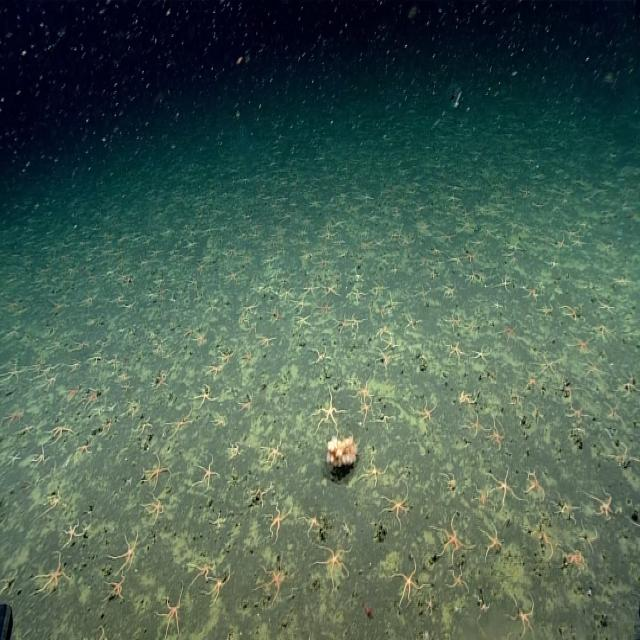brittle-stars: (433, 517, 469, 561), (34, 552, 70, 596), (316, 545, 352, 584), (260, 561, 291, 603), (392, 558, 421, 602), (509, 591, 536, 636), (316, 391, 343, 432), (159, 592, 185, 632), (383, 485, 410, 523), (203, 571, 232, 605), (112, 532, 139, 568), (266, 502, 292, 539), (142, 455, 170, 489), (489, 468, 515, 504), (586, 488, 614, 520), (562, 545, 586, 577), (196, 458, 219, 491), (263, 438, 287, 469), (481, 524, 504, 556), (190, 555, 216, 583), (554, 492, 578, 522), (168, 410, 194, 437), (131, 413, 154, 443), (143, 494, 166, 522), (361, 460, 384, 488), (437, 468, 459, 497), (104, 574, 127, 601), (535, 352, 559, 377), (1, 362, 26, 385), (526, 473, 545, 503), (487, 421, 506, 450), (62, 520, 83, 546), (50, 420, 74, 442), (463, 414, 484, 439), (195, 385, 218, 407), (568, 333, 590, 355), (43, 490, 63, 514), (448, 567, 468, 591), (417, 401, 437, 425), (561, 302, 584, 322), (522, 368, 540, 393), (499, 320, 519, 342), (566, 404, 588, 424), (448, 341, 466, 365), (594, 321, 615, 341), (303, 513, 324, 533), (585, 358, 604, 380), (475, 487, 493, 510), (376, 349, 396, 369), (445, 311, 463, 333), (356, 378, 374, 400), (471, 344, 490, 364), (458, 387, 477, 407), (82, 385, 100, 406), (357, 400, 374, 422), (312, 346, 331, 364), (230, 440, 246, 461), (414, 284, 432, 302), (348, 287, 367, 304), (5, 451, 22, 470), (154, 372, 170, 392), (259, 333, 277, 350), (202, 368, 220, 385), (240, 348, 256, 367), (372, 278, 388, 297), (497, 274, 512, 294), (211, 413, 228, 430), (292, 297, 309, 314), (293, 313, 311, 329), (224, 268, 240, 286), (318, 300, 334, 318), (424, 592, 436, 616), (349, 313, 364, 332), (406, 314, 420, 334), (77, 440, 91, 460), (206, 362, 223, 378), (218, 348, 234, 365), (381, 335, 396, 353), (525, 283, 539, 302), (324, 282, 340, 298), (270, 305, 285, 322), (464, 317, 478, 335), (304, 281, 319, 297), (195, 331, 208, 349), (338, 315, 351, 333), (463, 248, 477, 264), (280, 285, 294, 301), (118, 367, 128, 382)
